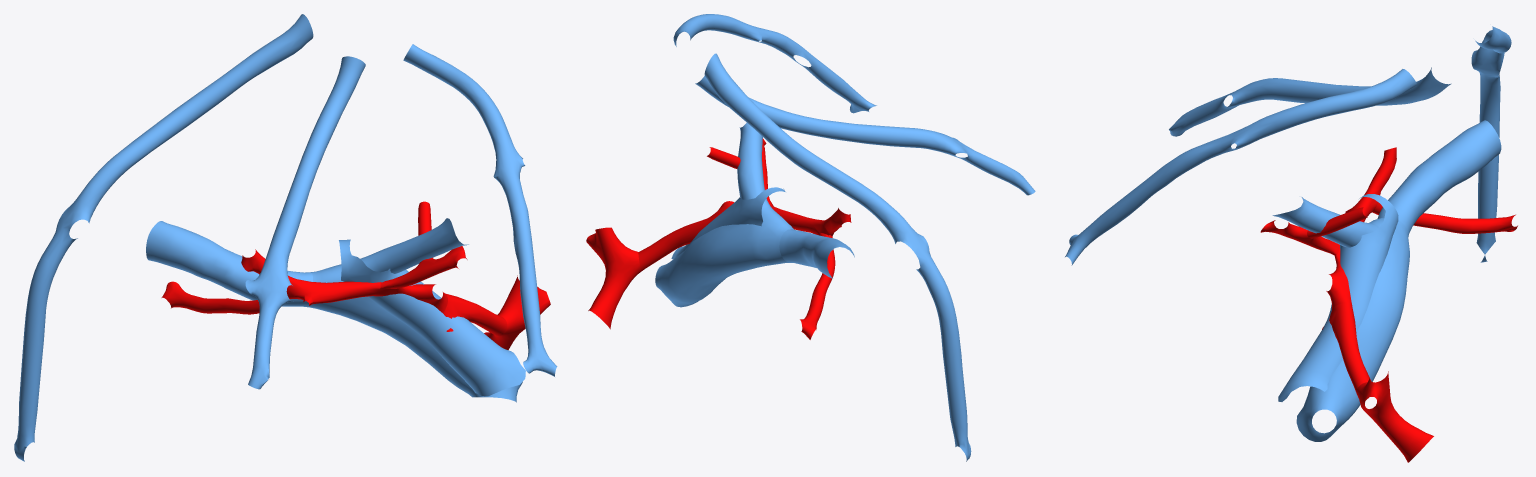
The model's file is liver_vessels.glb.
3 views of the same model, side by side, from view 1: azimuth 30°, elevation 25°; view 2: azimuth 150°, elevation 25°; view 3: azimuth 270°, elevation 25° (orthographic). The views are drawn at different scales.
Parts seen in each view (by area): view 1: VH_M_right_hepatic_vein, VH_M_celiac_trunk; view 2: VH_M_right_hepatic_vein, VH_M_celiac_trunk; view 3: VH_M_right_hepatic_vein, VH_M_celiac_trunk.
Part boxes in pixels (x1,y1,x2,y2): VH_M_right_hepatic_vein: [14, 14, 557, 461]; VH_M_celiac_trunk: [161, 201, 550, 349]; VH_M_right_hepatic_vein: [655, 14, 1035, 461]; VH_M_celiac_trunk: [586, 138, 851, 339]; VH_M_right_hepatic_vein: [1065, 26, 1511, 441]; VH_M_celiac_trunk: [1260, 147, 1517, 462].
Size of the model in its own units: 0.135 by 0.1029 by 0.1107.
